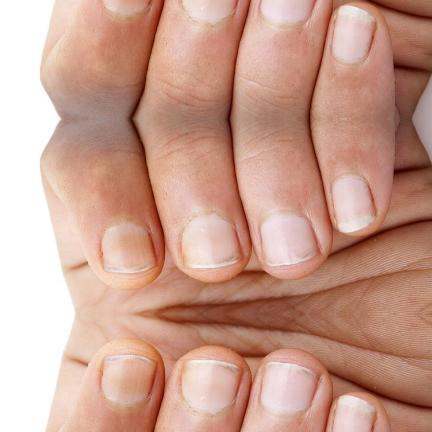Nail: (181, 213, 242, 269), (260, 361, 319, 418), (181, 359, 242, 414), (260, 210, 319, 266), (100, 223, 156, 275), (100, 353, 156, 405), (332, 176, 377, 233), (332, 3, 377, 60), (332, 395, 377, 432), (260, 0, 315, 26), (181, 0, 237, 23), (102, 0, 149, 13)
